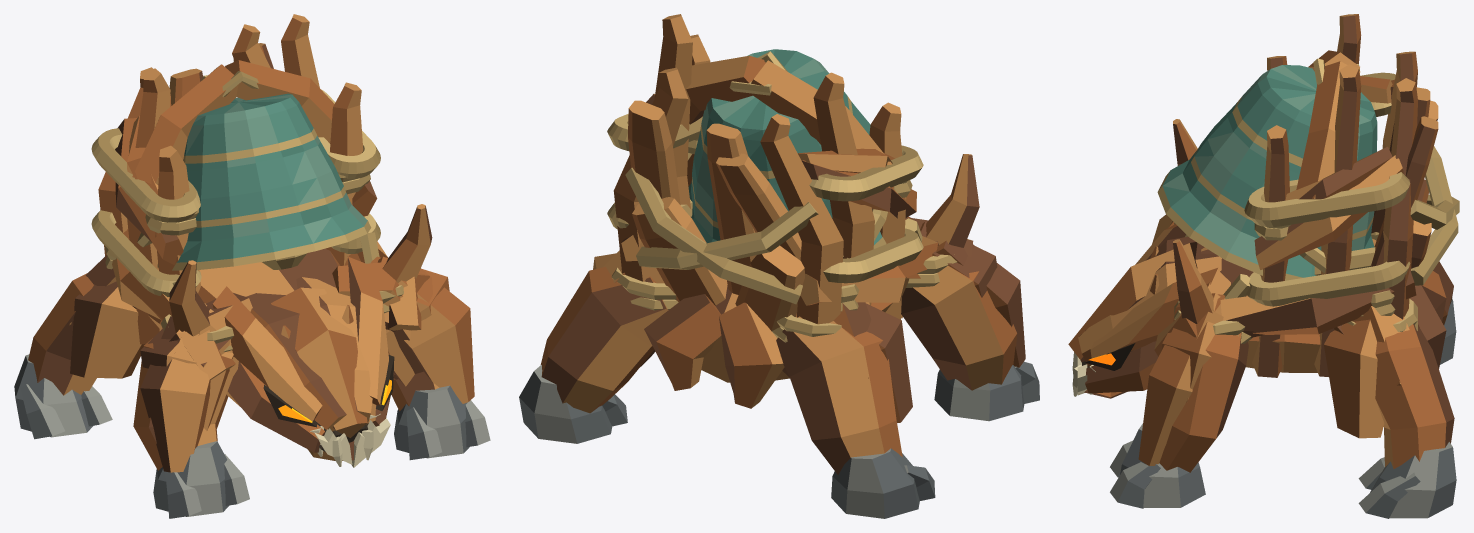
The model's file is bellback-complete-character-next.glb.
The picture shows the model from 3 angles, left to right: view 1: azimuth 30°, elevation 25°; view 2: azimuth 150°, elevation 25°; view 3: azimuth 270°, elevation 25°; orthographic projection. The views are drawn at different scales.
Parts seen in each view (by area): view 1: Hollow cast bell, Left fore outer timber shield, Pointed central face keel, Left hind shoulder cap, Solid timber cranium, Right fore outer timber shield, Shaped orbital brow timber, Barrel timber hull, Arch left, Left hind timber leg, Shaped orbital brow timber.001, Heavy salvage side lashing -1 1 (+38 smaller); view 2: Left hind timber leg, Right hind timber leg, Left fore timber leg, Hollow cast bell, Broken ship rib -1 2, Left hind stone foot, Stern overlapping plate 1, Stern overlapping plate -1, Broken ship rib -1 1, Rear crossed rope right, Right hind stone foot, Rear crossed rope left (+28 smaller); view 3: Hollow cast bell, Right hind timber leg, Right fore timber leg, Right hind shoulder cap, Lower broken side strake 1, Right fore outer timber shield, Heavy salvage side lashing 1 0, Heavy salvage side lashing 1 1, Broken ship rib 1 2, Broken ship rib 1 1, Right hind stone foot, Middle broken side strake 1 (+30 smaller).
Part boxes in pixels (x1=…): Hollow cast bell: x1=157, y1=93, x2=371, y2=270; Left fore outer timber shield: x1=140, y1=316, x2=210, y2=472; Pointed central face keel: x1=271, y1=287, x2=367, y2=437; Left hind shoulder cap: x1=70, y1=281, x2=144, y2=378; Solid timber cranium: x1=246, y1=277, x2=372, y2=431; Right fore outer timber shield: x1=398, y1=268, x2=474, y2=403; Shaped orbital brow timber: x1=212, y1=286, x2=322, y2=421; Barrel timber hull: x1=148, y1=248, x2=340, y2=329; Arch left: x1=132, y1=64, x2=238, y2=184; Left hind timber leg: x1=28, y1=273, x2=96, y2=395; Shaped orbital brow timber.001: x1=348, y1=256, x2=388, y2=405; Heavy salvage side lashing -1 1: x1=91, y1=128, x2=200, y2=222; Left hind timber leg: x1=776, y1=316, x2=902, y2=474; Right hind timber leg: x1=540, y1=267, x2=668, y2=413; Left fore timber leg: x1=901, y1=266, x2=1017, y2=390; Hollow cast bell: x1=688, y1=49, x2=886, y2=248; Broken ship rib -1 2: x1=760, y1=114, x2=843, y2=324; Left hind stone foot: x1=831, y1=448, x2=919, y2=518; Stern overlapping plate 1: x1=644, y1=294, x2=721, y2=390; Stern overlapping plate -1: x1=719, y1=302, x2=784, y2=408; Broken ship rib -1 1: x1=813, y1=72, x2=874, y2=305; Rear crossed rope right: x1=625, y1=167, x2=802, y2=304; Right hind stone foot: x1=519, y1=365, x2=612, y2=443; Rear crossed rope left: x1=636, y1=202, x2=818, y2=269; Hollow cast bell: x1=1157, y1=65, x2=1377, y2=280; Right hind timber leg: x1=1375, y1=310, x2=1454, y2=468; Right fore timber leg: x1=1159, y1=332, x2=1248, y2=472; Right hind shoulder cap: x1=1324, y1=319, x2=1384, y2=438; Lower broken side strake 1: x1=1220, y1=269, x2=1416, y2=334; Right fore outer timber shield: x1=1138, y1=310, x2=1223, y2=465; Heavy salvage side lashing 1 0: x1=1246, y1=247, x2=1410, y2=306; Heavy salvage side lashing 1 1: x1=1244, y1=172, x2=1410, y2=226; Broken ship rib 1 2: x1=1383, y1=78, x2=1417, y2=319; Broken ship rib 1 1: x1=1314, y1=64, x2=1361, y2=376; Right hind stone foot: x1=1370, y1=442, x2=1456, y2=518; Middle broken side strake 1: x1=1254, y1=155, x2=1403, y2=269.
Size of the model in its own units: 3.74 by 3.72 by 3.32.
